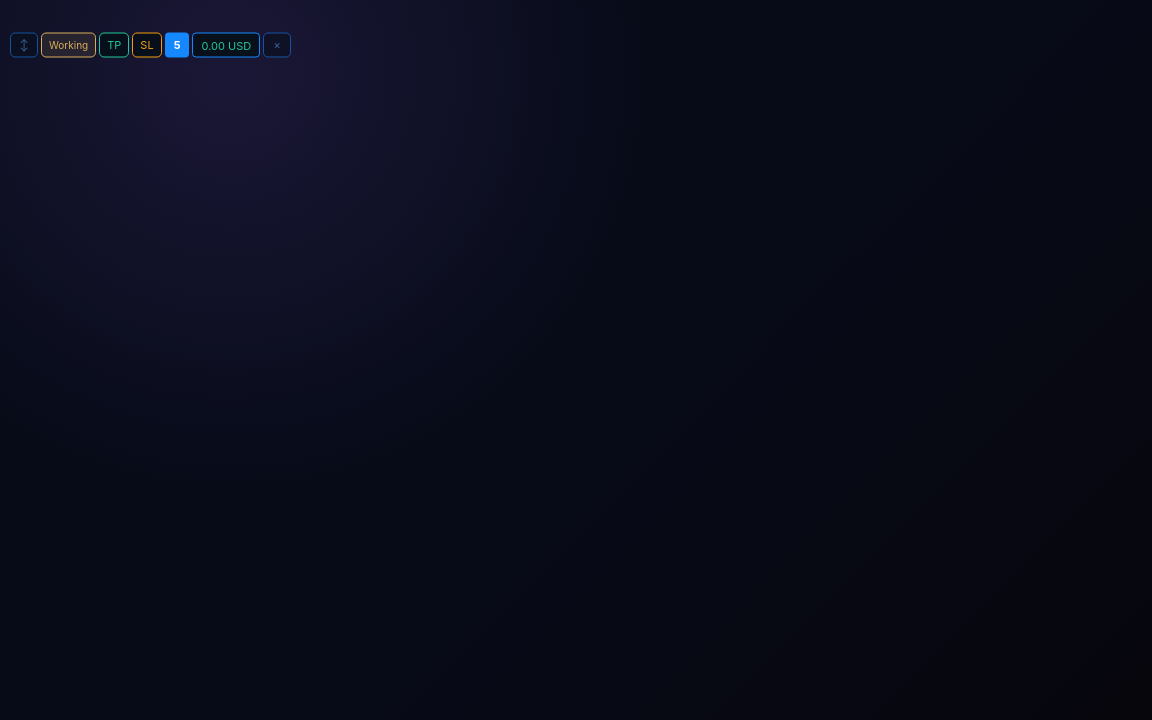
Test case: TradingPositionOverlay › previews and confirms a dragged take-profit level
Press the mouse on the button with aria-label "Drag to add Take profit": point(114, 45) x1=99 y1=33 x2=129 y2=58
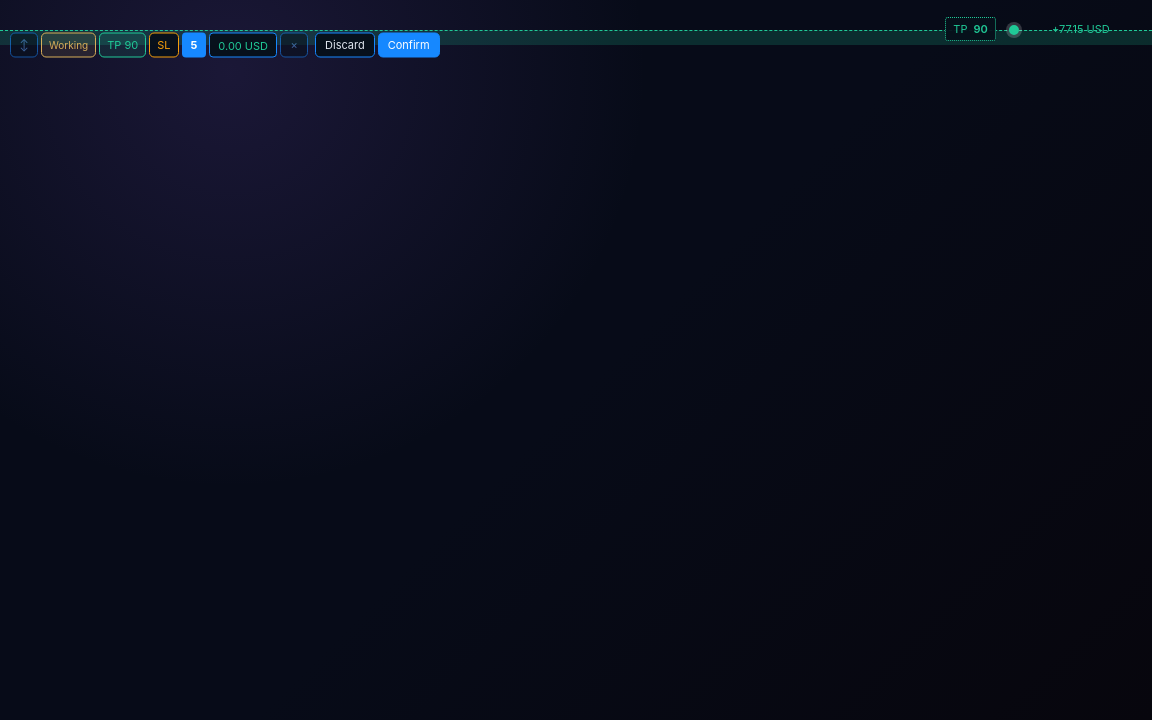
Check: the button "Confirm" is shown
Check: the element with class "trading-position-zone" is shown, box x1=0 y1=30 x2=1151 y2=45
Click the button "Confirm": point(409, 45) x1=378 y1=33 x2=440 y2=58
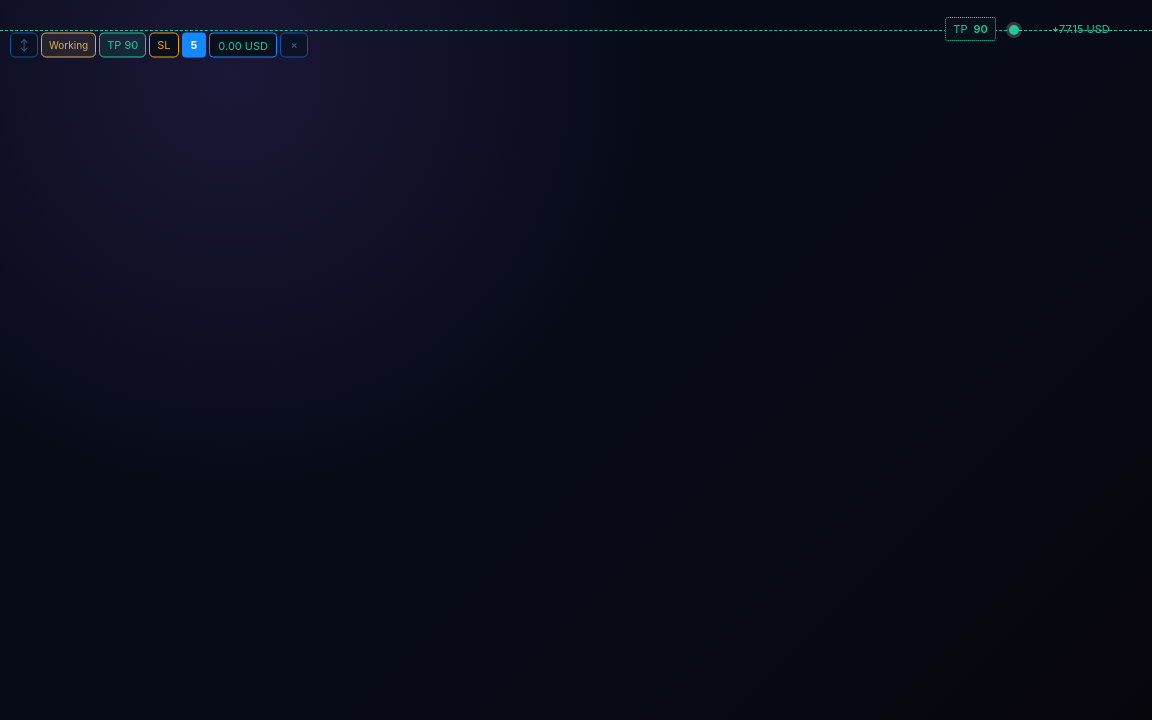
Check: the button with aria-label "Drag to add Take profit" reads "TP 90", box x1=99 y1=33 x2=146 y2=58
Check: the element with class "trading-position-zone" is gone
